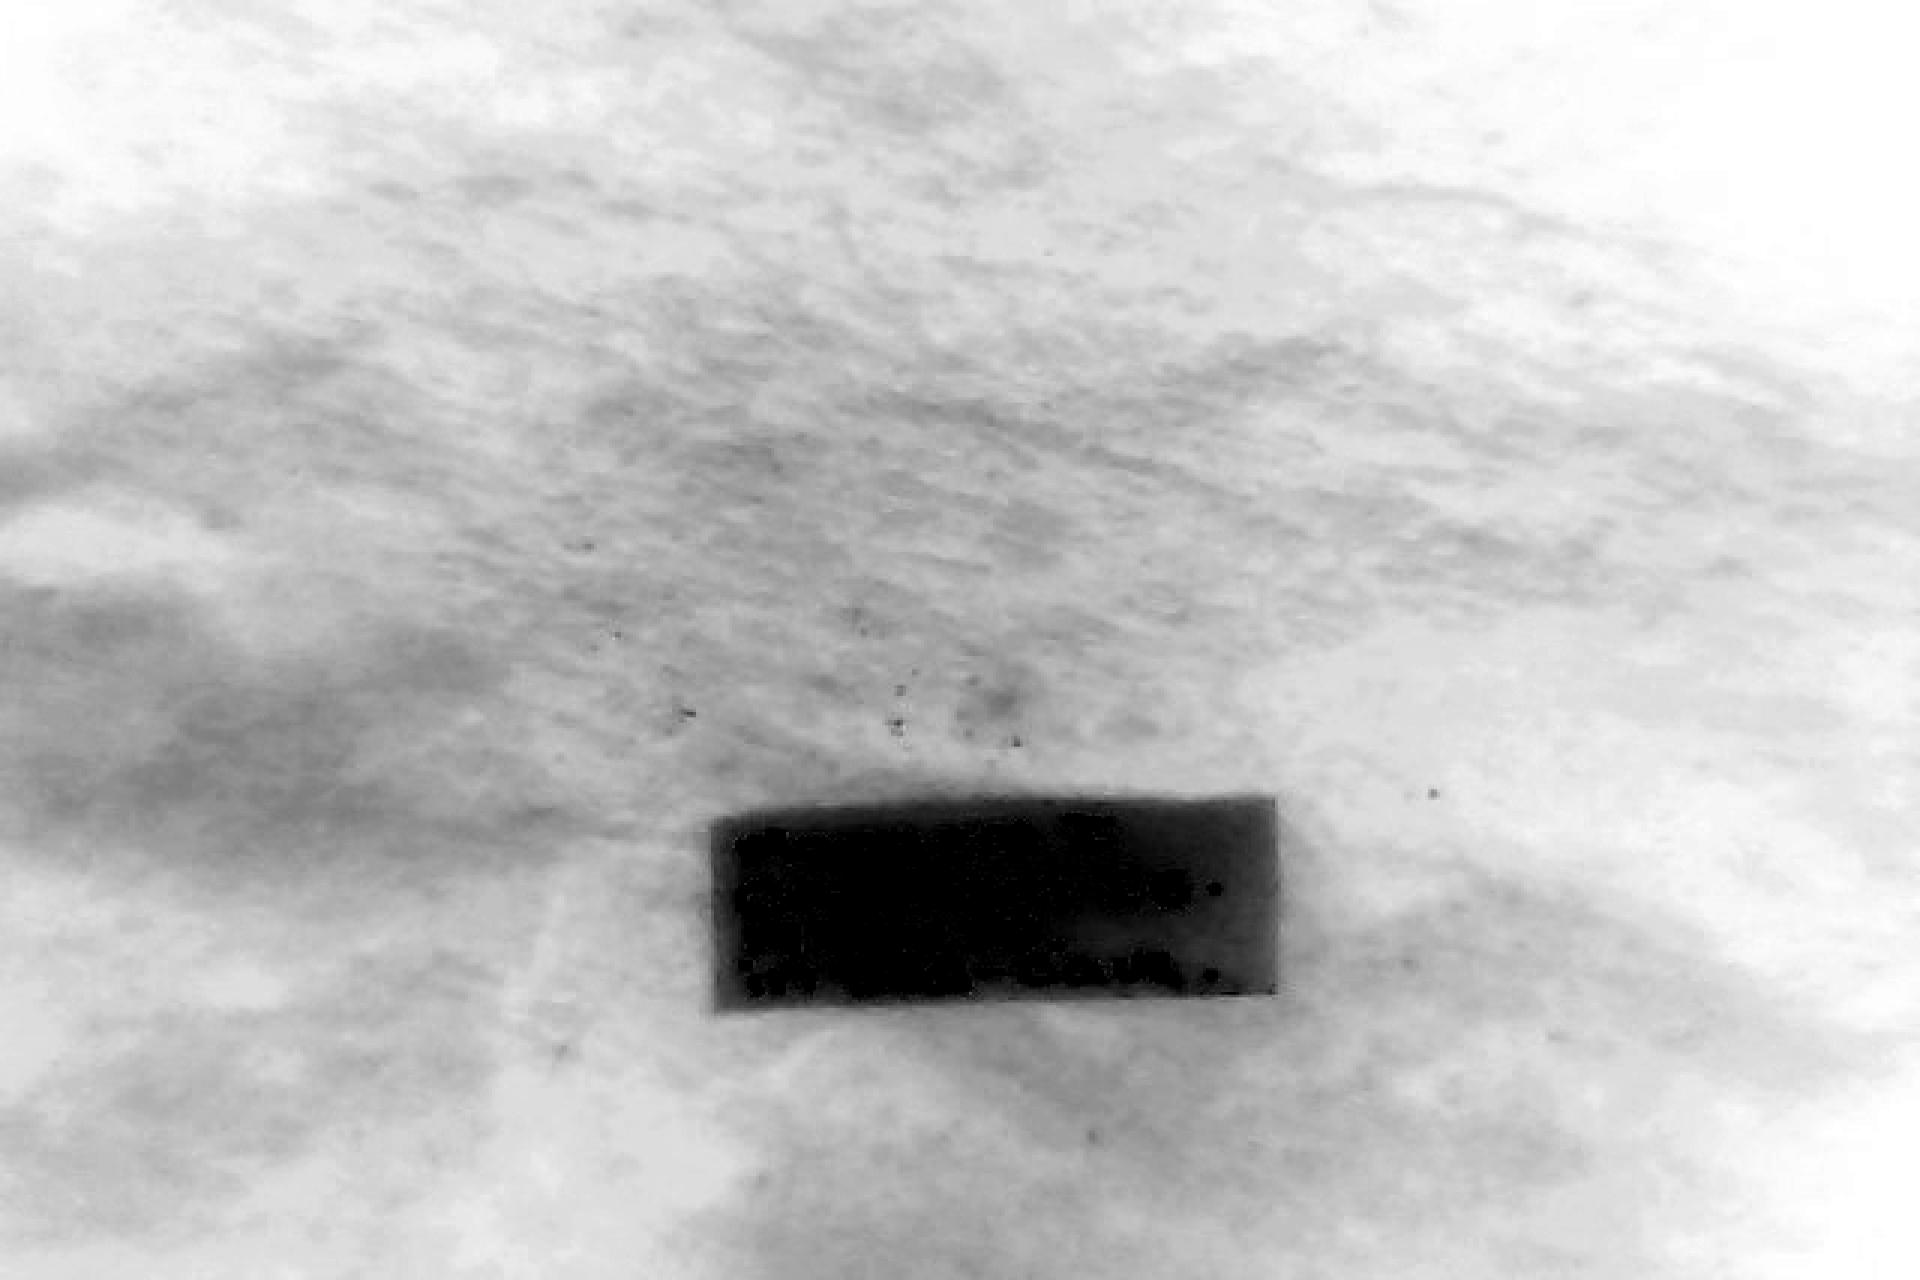hand_label: (713, 797, 1274, 1010)
